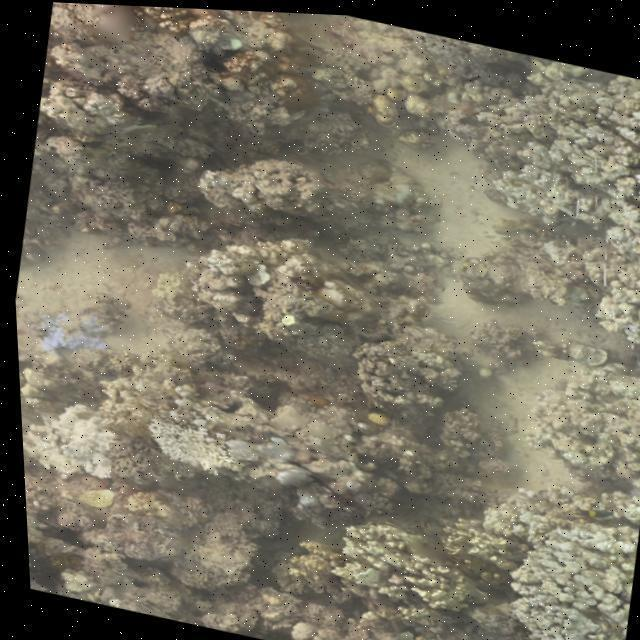Bleached Coral: (466, 500, 637, 640), (18, 395, 122, 489), (134, 404, 244, 486)
